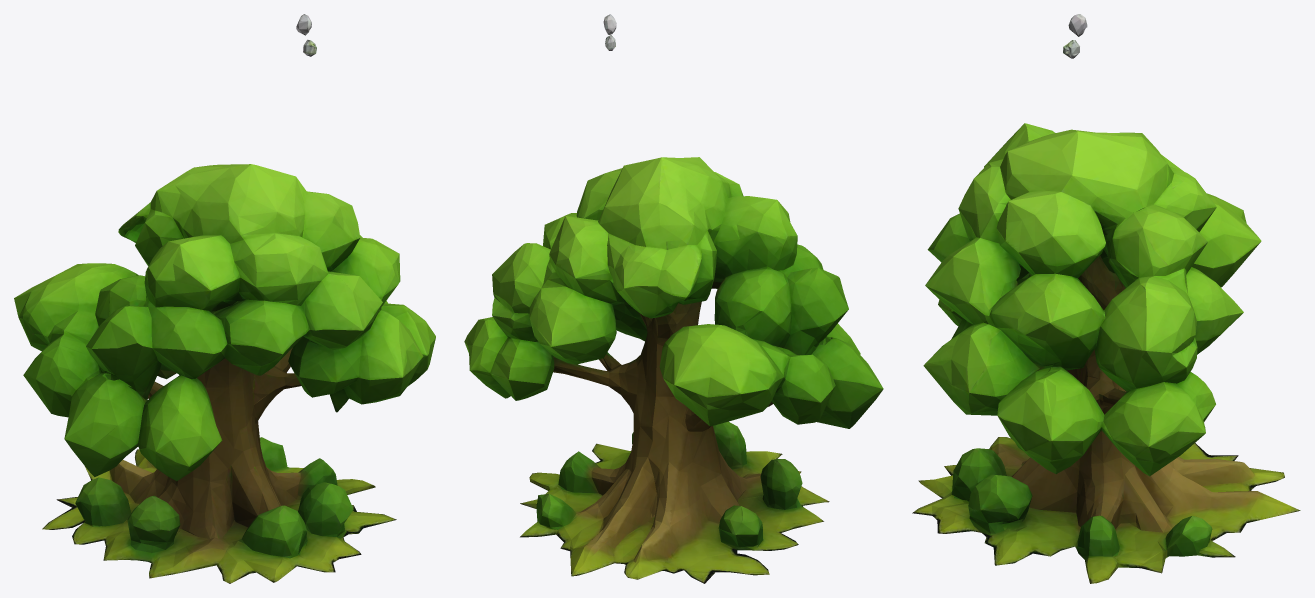
The model's file is tree.glb.
The picture shows the model from 3 angles, left to right: view 1: azimuth 30°, elevation 25°; view 2: azimuth 150°, elevation 25°; view 3: azimuth 270°, elevation 25°; orthographic projection. The views are drawn at different scales.
Visible parts, largest first — view 1: world; view 2: world; view 3: world.
Part boxes in pixels (x1,y1,x2,y2): world: (14, 14, 435, 583); world: (464, 14, 883, 583); world: (912, 14, 1300, 583).
Bounding box in the file's own units: 0.8014 × 0.9958 × 0.6594.
1 material, 1 textured.
